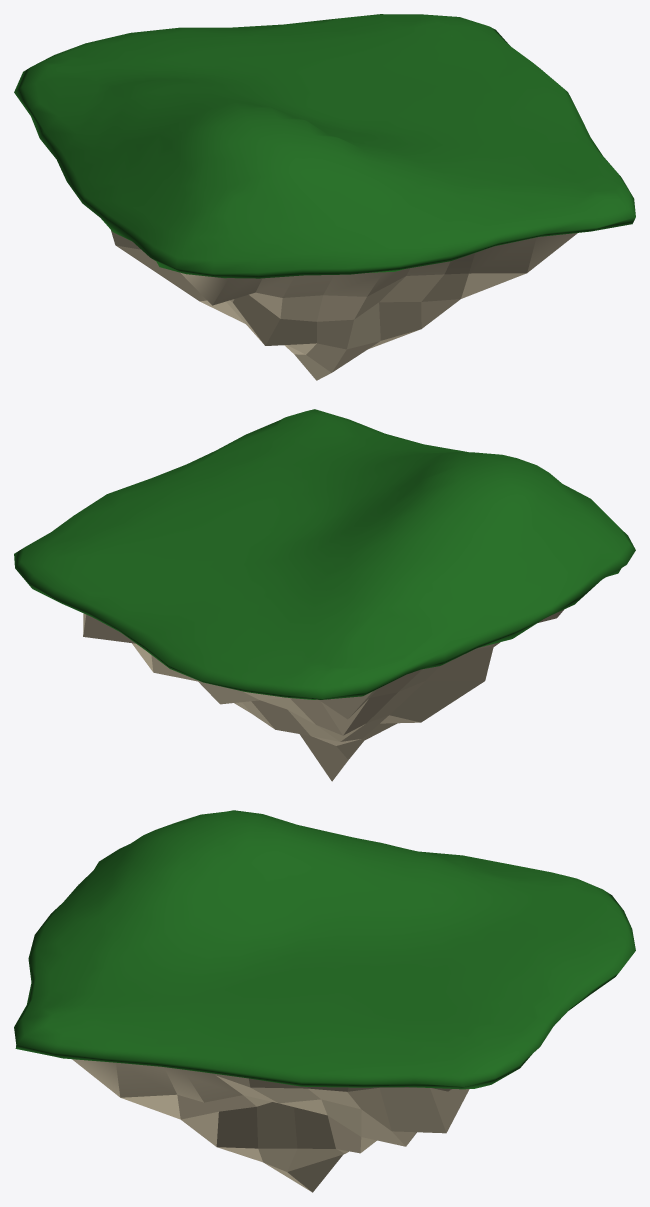
File: SM_Island4.fbx
3 renders of one model, top to bottom at view 1: azimuth 30°, elevation 25°; view 2: azimuth 150°, elevation 25°; view 3: azimuth 270°, elevation 25°, orthographic. The views are drawn at different scales.
Visible parts, largest first — view 1: SM_Island8; view 2: SM_Island8; view 3: SM_Island8.
Boxes of the visible parts, <box> form: SM_Island8: <box>14,14,635,380</box>; SM_Island8: <box>14,409,635,781</box>; SM_Island8: <box>14,810,635,1192</box>.
Size of the model in its own units: 40.95 by 25.43 by 45.32.
